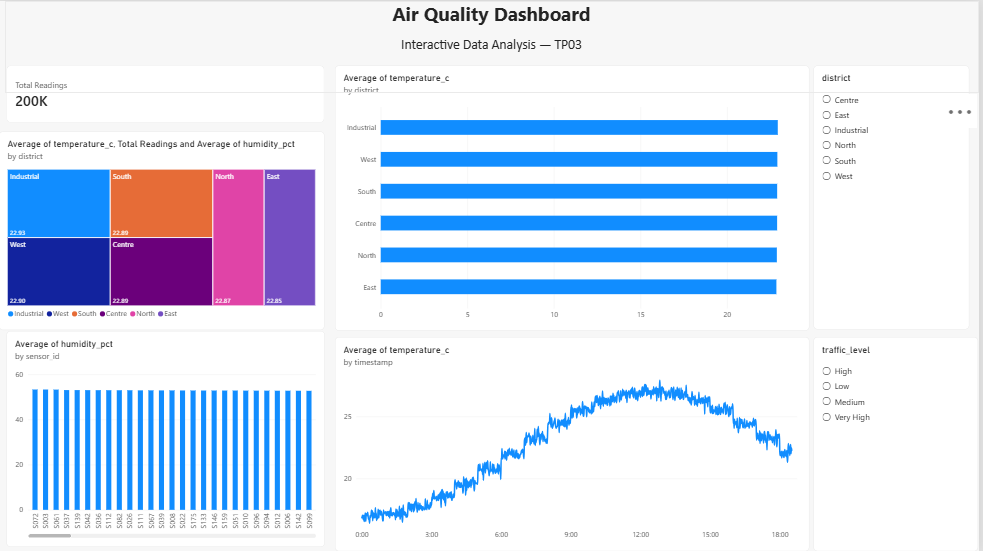

The dashboard page shown, as its layout file describes it:
{"tool":"powerbi","page":{"name":"Page 1","canvas":[1920,1080],"ordinal":0},"visuals":[{"type":"cardVisual","fields":{"Data":["air_quality_tp03.Total Readings"]},"box":[14.1,126.6,623.6,112.5],"z":0},{"type":"clusteredBarChart","fields":{"Category":["air_quality_tp03.district"],"Y":["Avg(air_quality_tp03.temperature_c)"]},"box":[657.5,127.5,930,520],"z":1},{"type":"clusteredColumnChart","fields":{"Category":["air_quality_tp03.sensor_id"],"Y":["Avg(air_quality_tp03.humidity_pct)"]},"box":[15,647.5,624,423],"z":2},{"type":"lineChart","fields":{"Category":["air_quality_tp03.timestamp"],"Y":["Avg(air_quality_tp03.temperature_c)"]},"box":[657.5,657.5,930,420],"z":3},{"type":"listSlicer","fields":{"Values":["air_quality_tp03.district"]},"box":[1597.5,127.5,305,517.5],"z":4},{"type":"listSlicer","fields":{"Values":["air_quality_tp03.traffic_level"]},"box":[1597.5,657.5,322.5,420],"z":5},{"type":"textbox","box":[12.5,0,1907.5,180],"z":6},{"type":"treemap","fields":{"Group":["air_quality_tp03.district"],"Values":["Avg(air_quality_tp03.temperature_c)"]},"box":[0,255.5,637.7,389.2],"z":7}]}

Visuals, with their boxes in screenshot pixels (x1, y1, x2, y2), scaled from the page's 1920x1080 canvas onto the 983x551 screenshot:
cardVisual - air_quality_tp03.Total Readings: (left=7, top=65, right=326, bottom=122)
clusteredBarChart - air_quality_tp03.district x Avg(air_quality_tp03.temperature_c): (left=337, top=65, right=813, bottom=330)
clusteredColumnChart - air_quality_tp03.sensor_id x Avg(air_quality_tp03.humidity_pct): (left=8, top=330, right=327, bottom=546)
lineChart - air_quality_tp03.timestamp x Avg(air_quality_tp03.temperature_c): (left=337, top=335, right=813, bottom=550)
listSlicer - air_quality_tp03.district: (left=818, top=65, right=974, bottom=329)
listSlicer - air_quality_tp03.traffic_level: (left=818, top=335, right=982, bottom=550)
textbox: (left=6, top=0, right=982, bottom=92)
treemap - air_quality_tp03.district x Avg(air_quality_tp03.temperature_c): (left=0, top=130, right=326, bottom=329)
